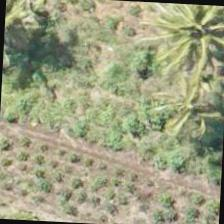Kelapa_Sawit: (142, 54, 223, 149), (145, 2, 223, 70)
